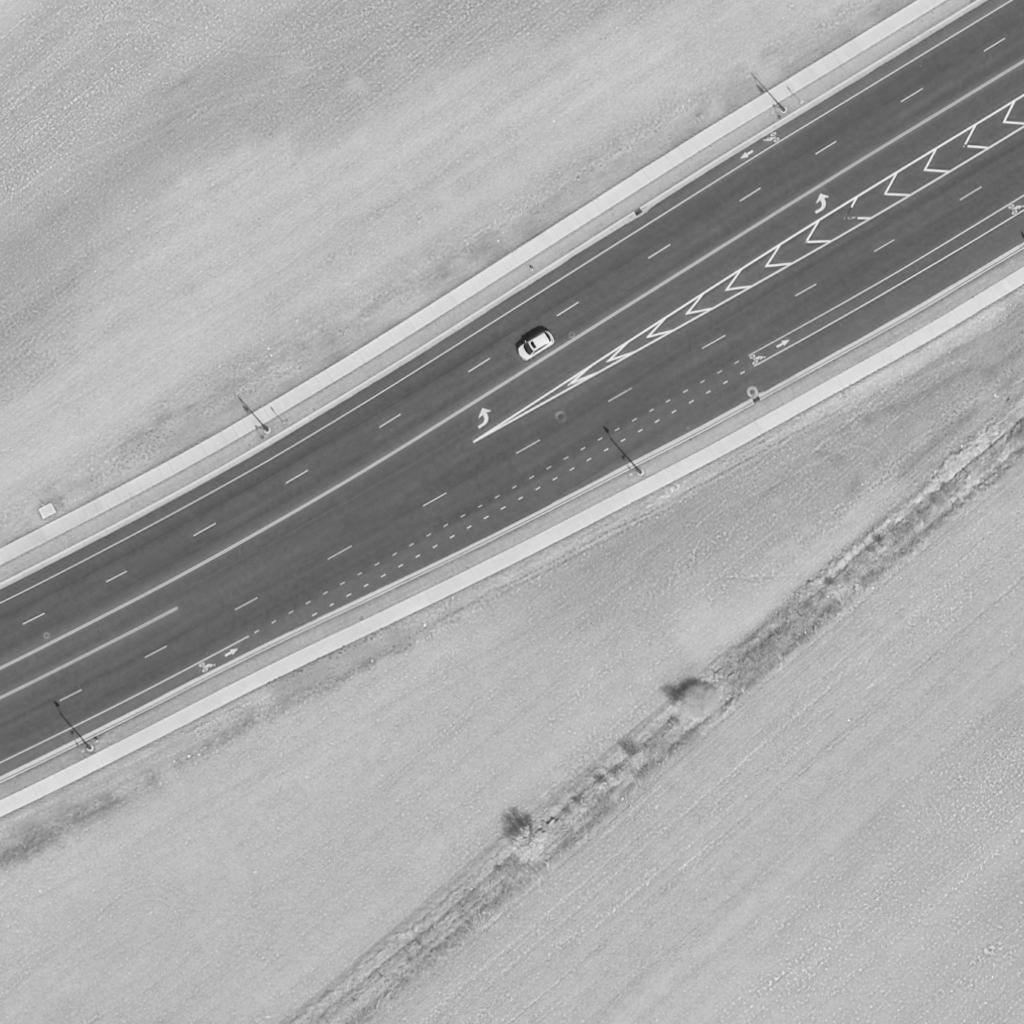vehicle: (515, 329, 555, 363)
